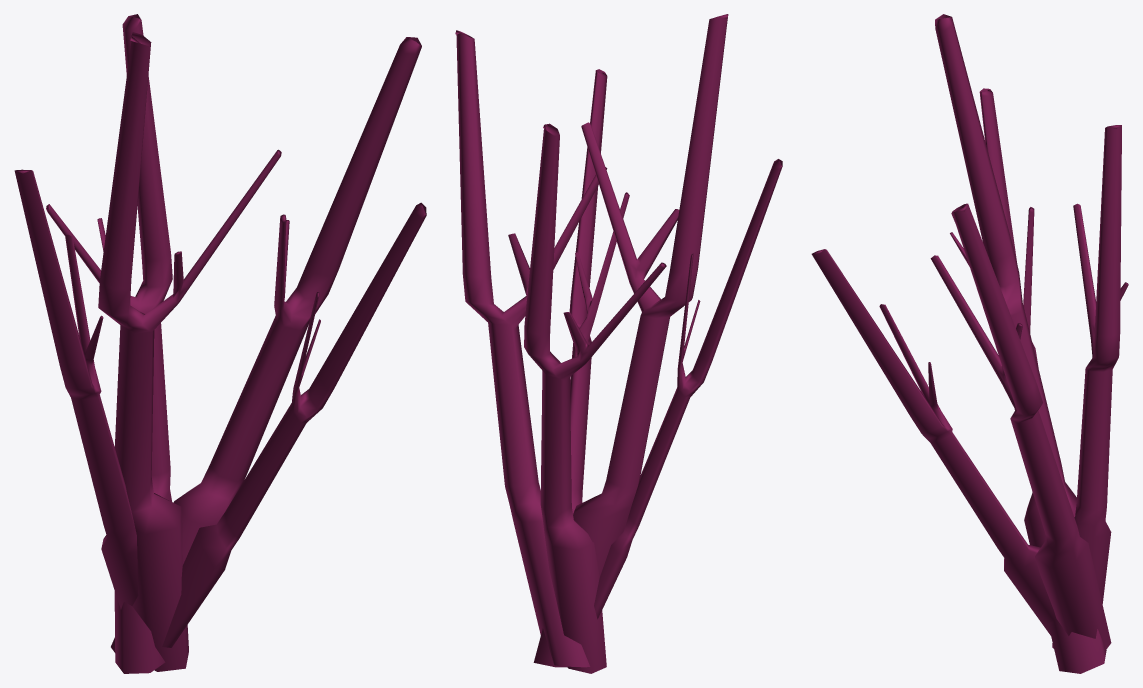
Rendered from Coral04.fbx.
3 views of the same model, side by side, from view 1: azimuth 30°, elevation 25°; view 2: azimuth 150°, elevation 25°; view 3: azimuth 270°, elevation 25° (orthographic). The views are drawn at different scales.
Parts seen in each view (by area): view 1: Coral04; view 2: Coral04; view 3: Coral04.
Boxes of the visible parts, box(x1,y1,x2,y2) form: Coral04: box(14, 14, 426, 673); Coral04: box(455, 14, 782, 673); Coral04: box(811, 14, 1128, 673).
Bounding box in the file's own units: 2.33 × 4.09 × 1.94.
